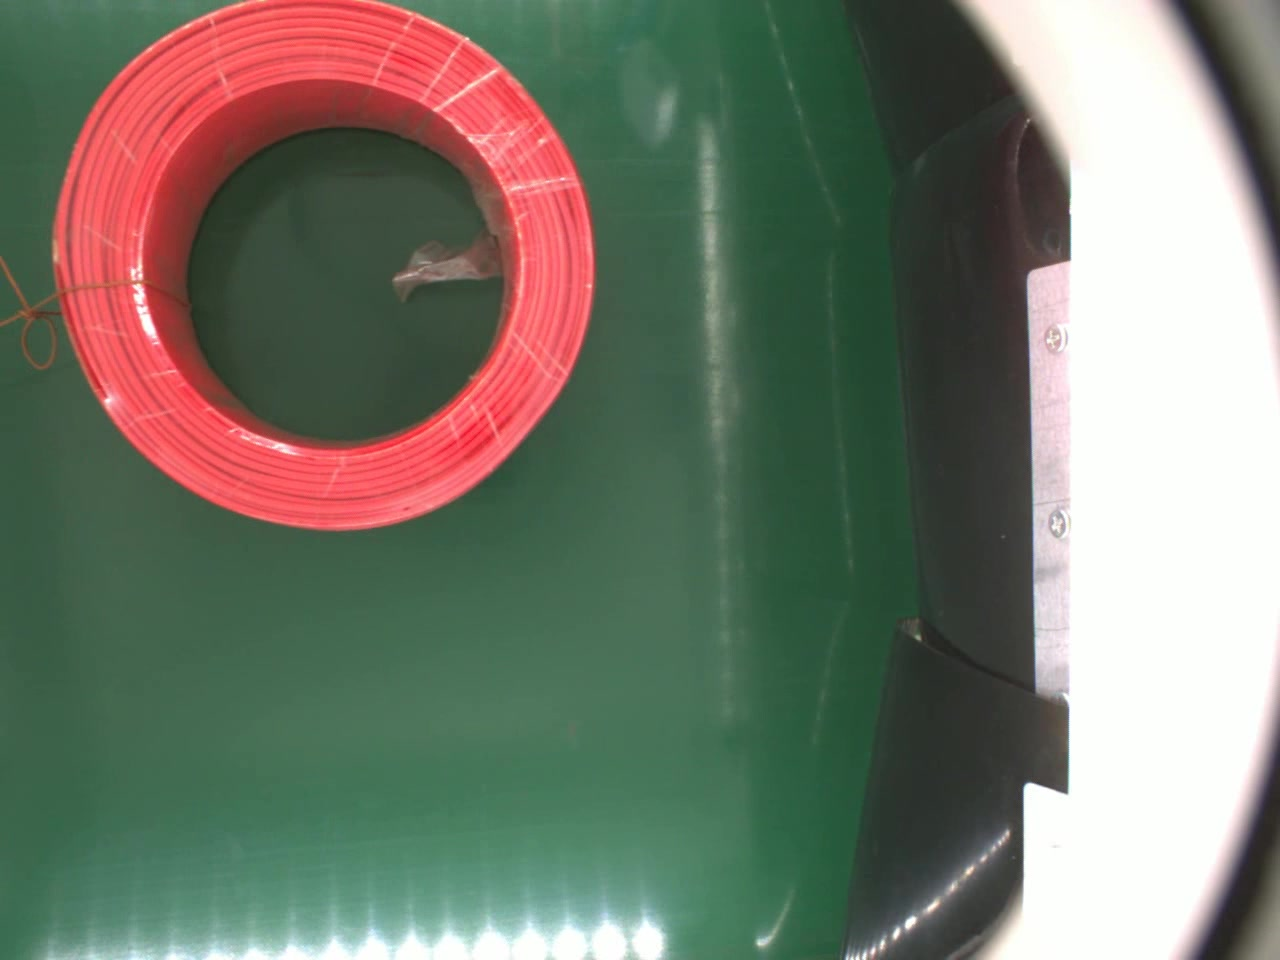red: (57, 0, 598, 534)
